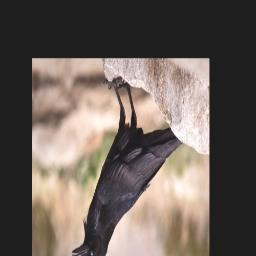Crow: (70, 80, 184, 256)
